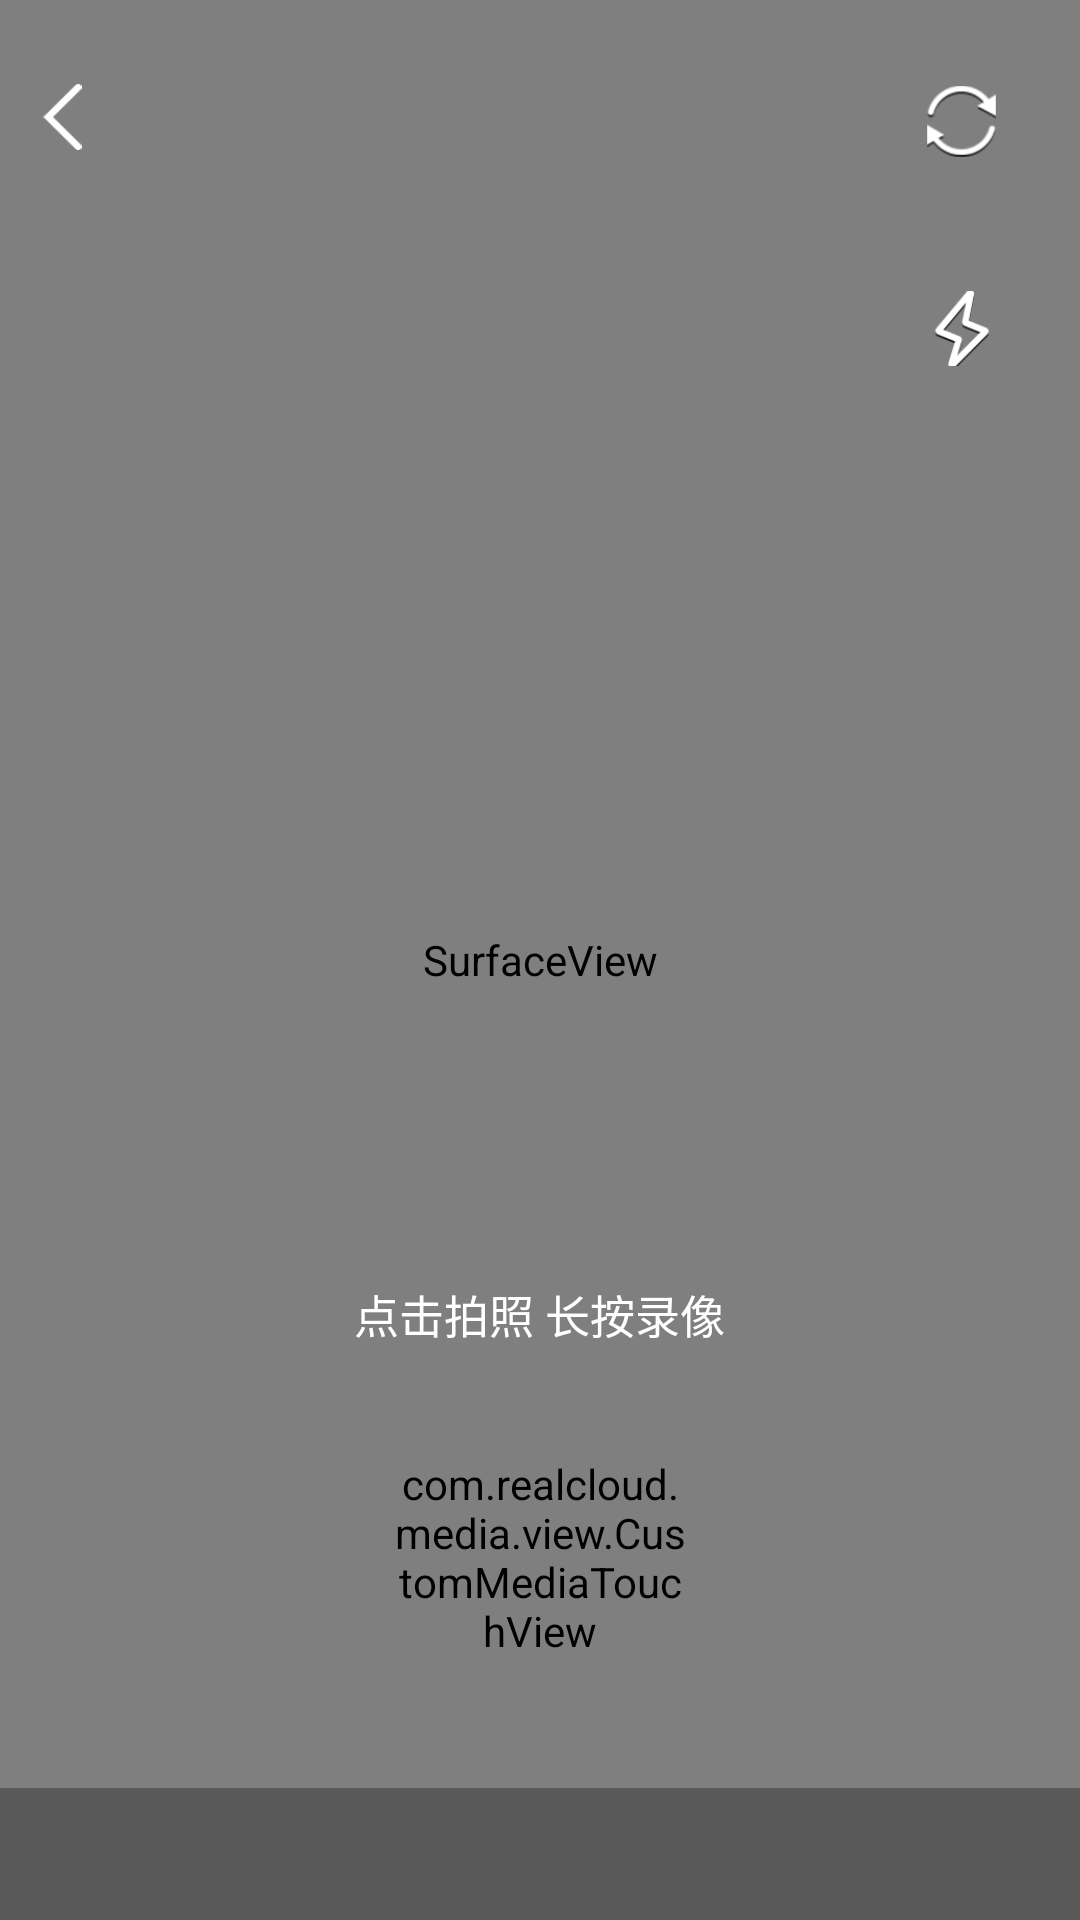

Where to tap for icons on this 1080px×1920px app screen, as point (x, y):
flash on: point (962, 328)
left arrow: point (62, 117)
switch camera: point (961, 121)
